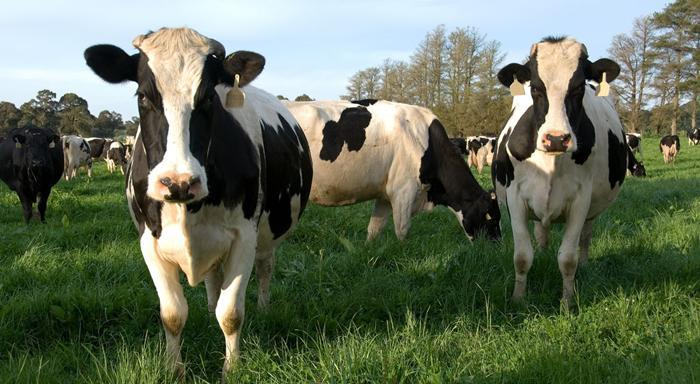muzzles: (144, 169, 210, 205), (532, 128, 580, 158)
